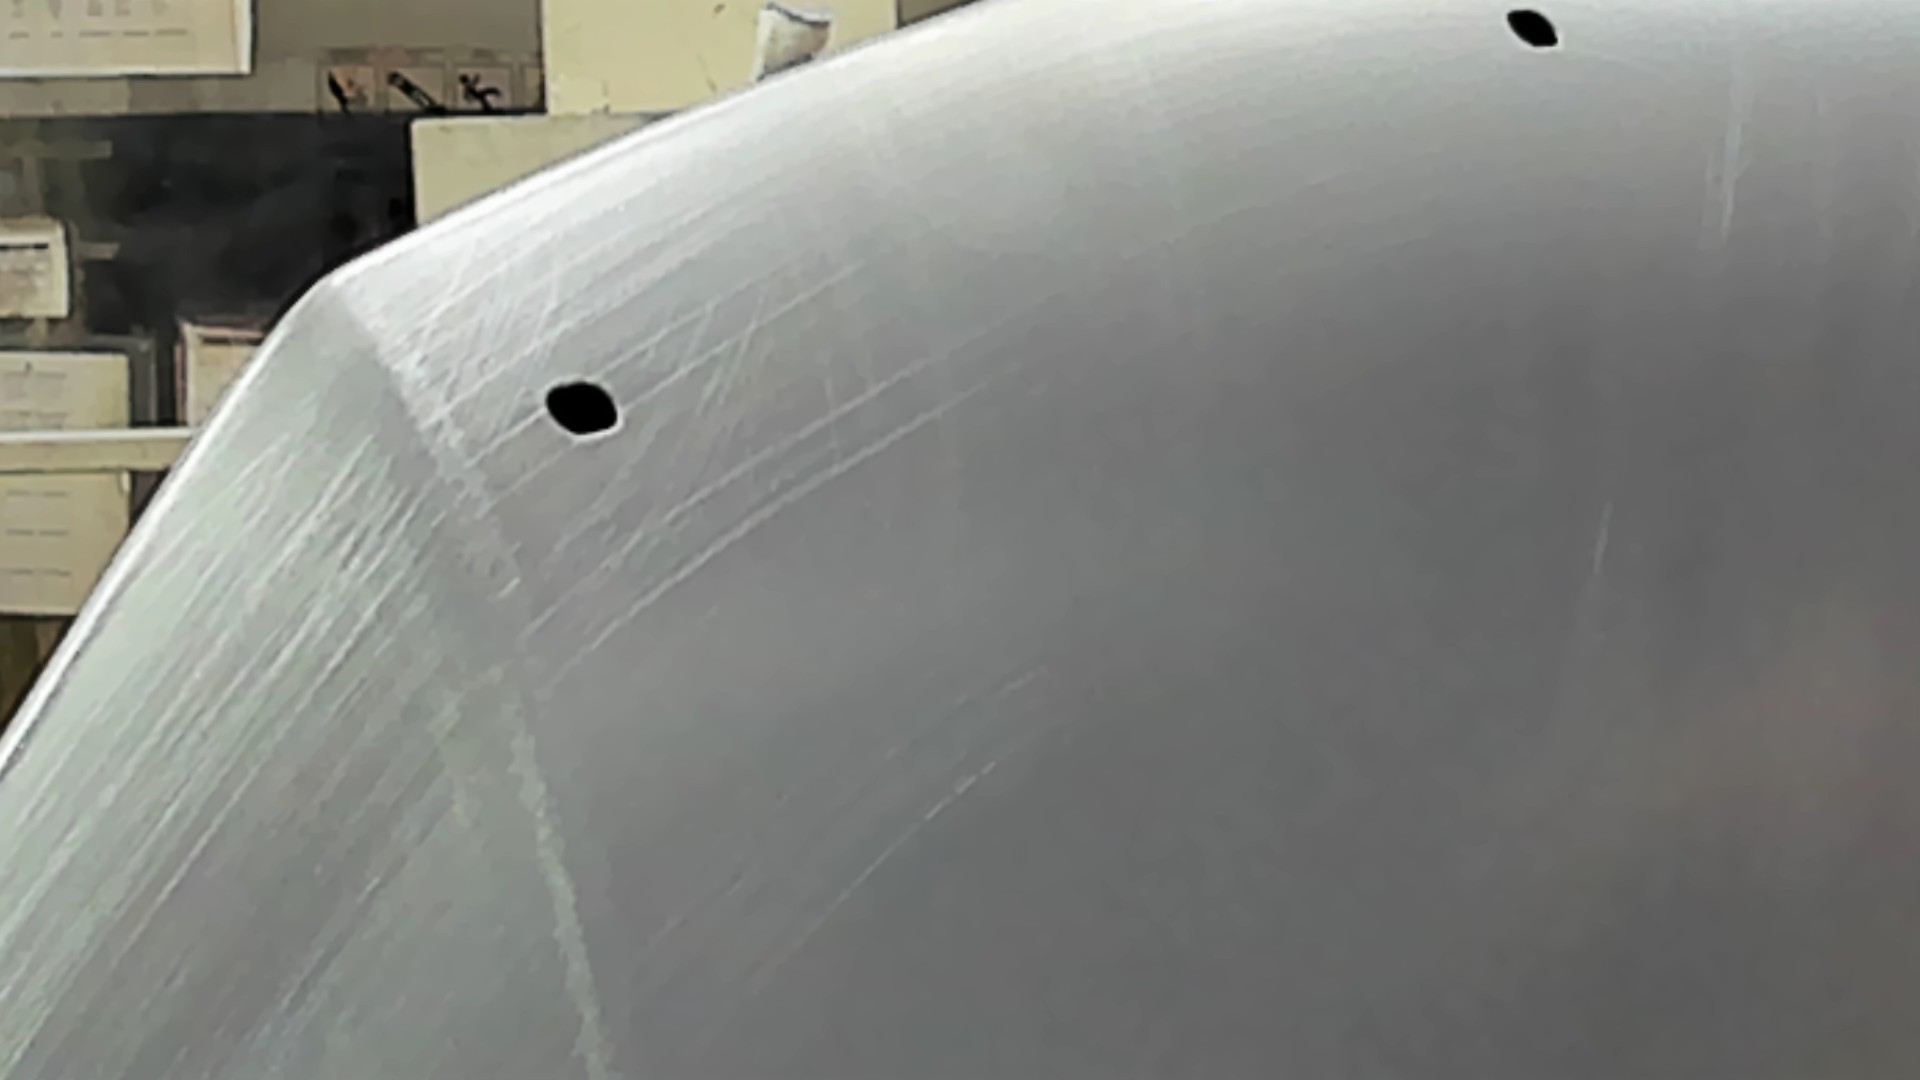amorfo: (539, 373, 625, 438), (1498, 4, 1569, 55)
